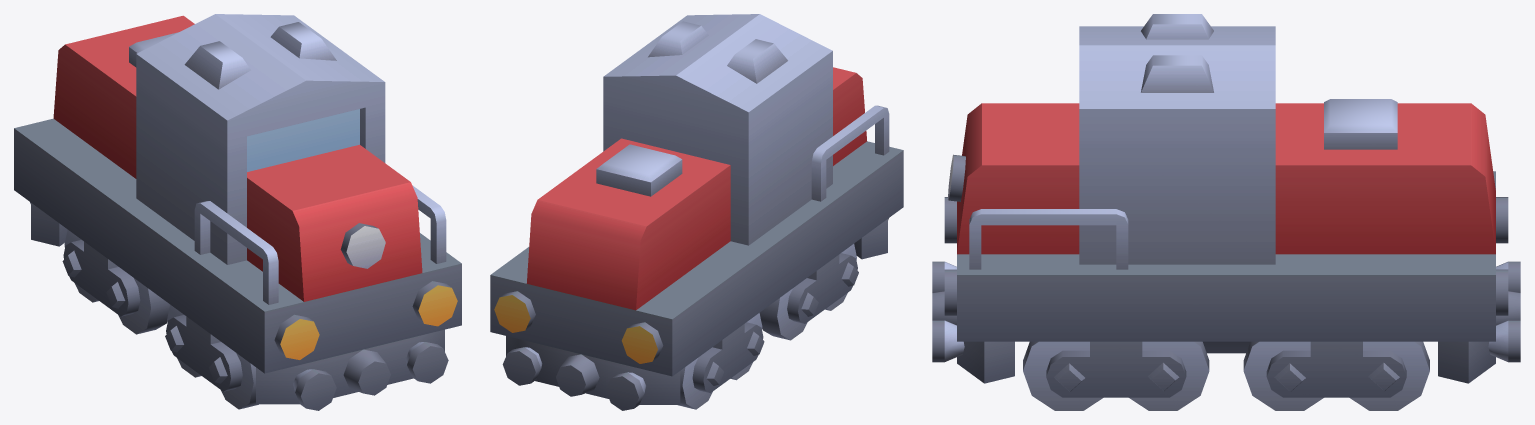
Rendered from tr-train-diesel-b.glb.
3 renders of one model, left to right at view 1: azimuth 30°, elevation 25°; view 2: azimuth 150°, elevation 25°; view 3: azimuth 270°, elevation 25°, orthographic. The views are drawn at different scales.
Parts seen in each view (by area): view 1: train-diesel-b; view 2: train-diesel-b; view 3: train-diesel-b.
Boxes of the visible parts, <box> form: train-diesel-b: <box>14,14,461,410</box>; train-diesel-b: <box>490,14,903,410</box>; train-diesel-b: <box>932,14,1520,410</box>.
Size of the model in its own units: 1 by 1.48 by 2.4.
1 material, 1 textured.
